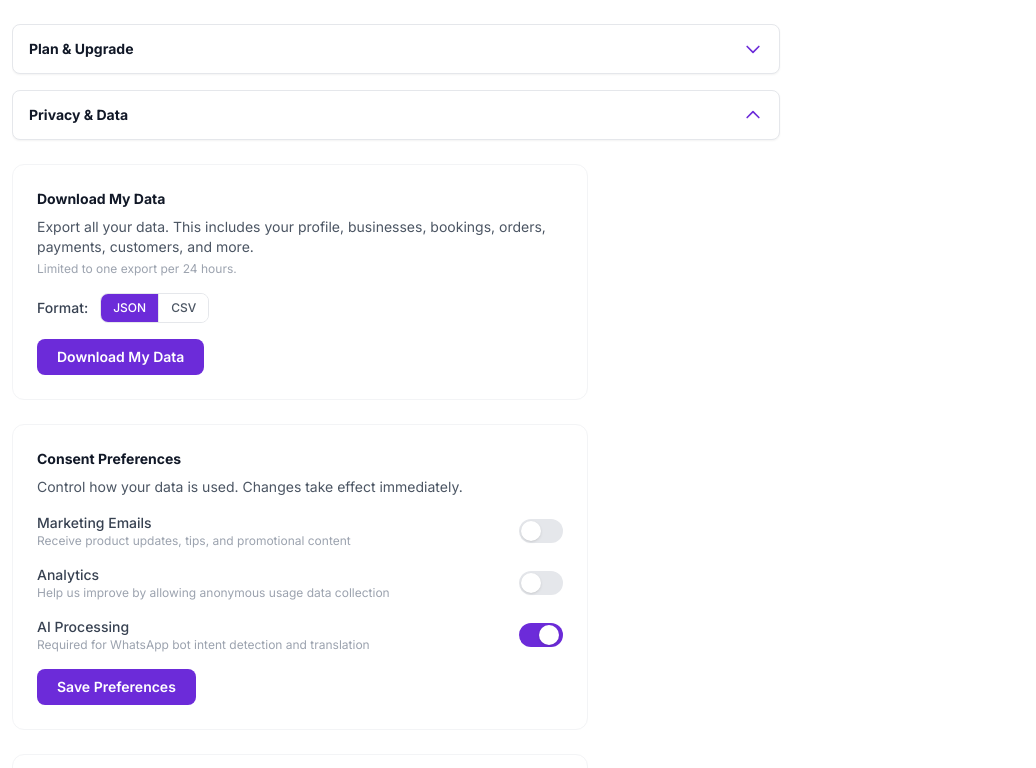
Test: W27 rendered AccountTab with actual consent GET/POST › does not claim saved after actual returned update outcome
The image size is (1036, 768).
Expected: the button "Save Preferences" is shown, [37,669,196,705]
Click the switch named "Toggle marketing emails": [541, 531] box [519,519,563,543]
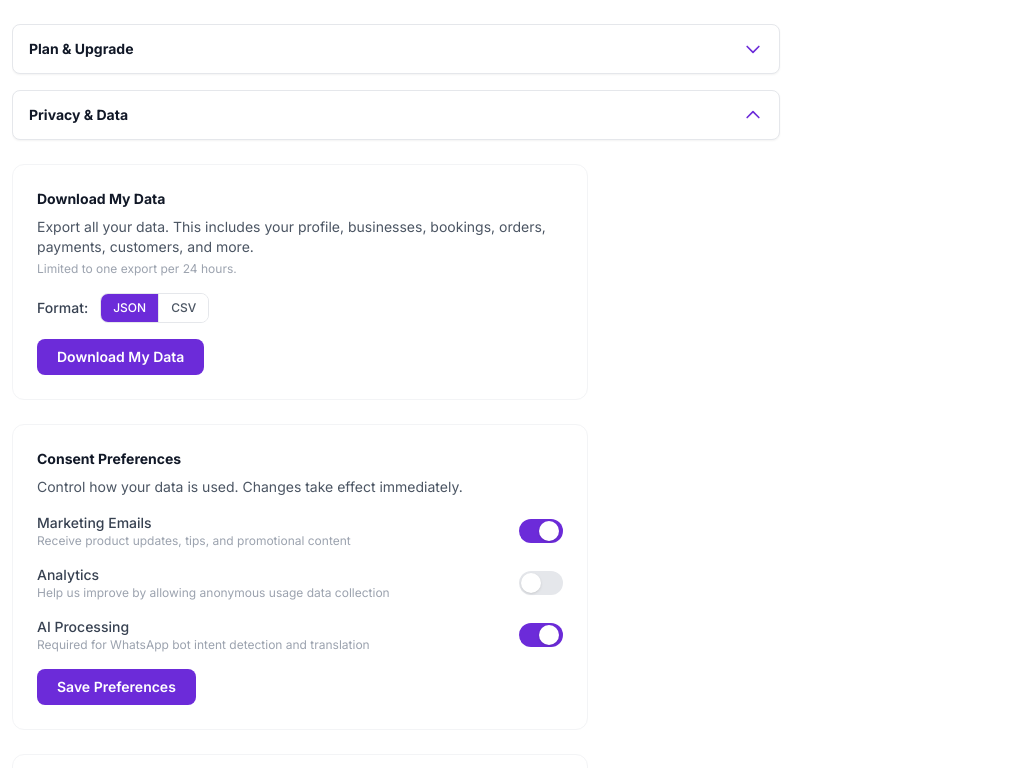
Click the button "Save Preferences": [116, 687] box [37,669,196,705]
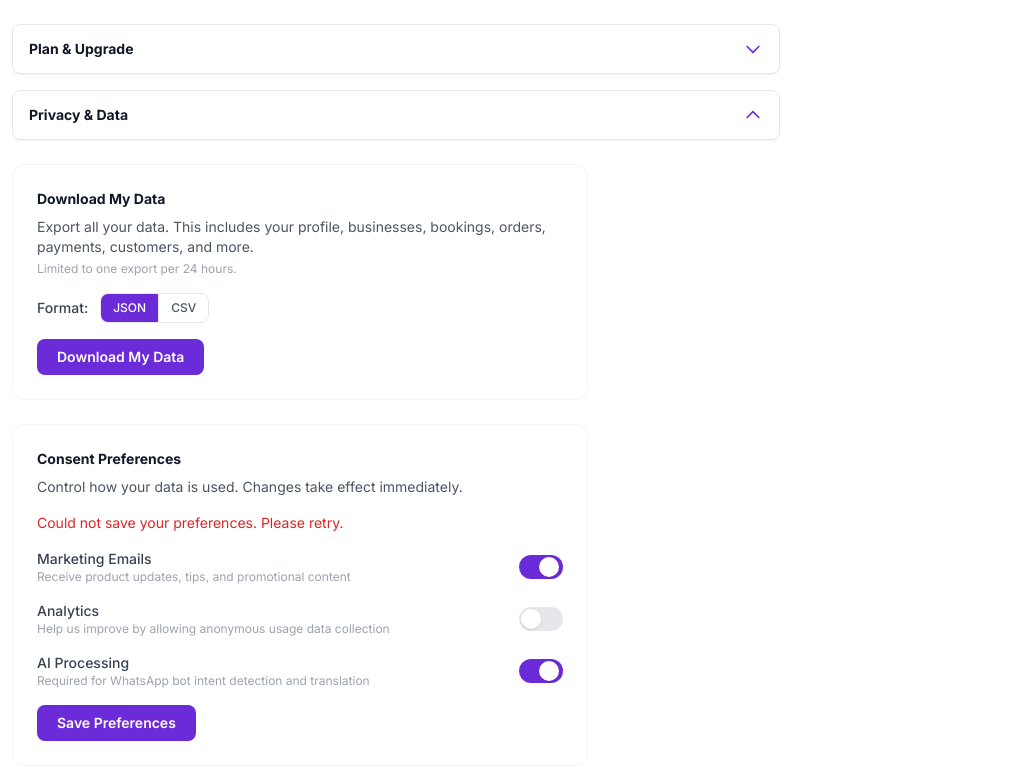
Now the message "Could not save your preferences. Please retry." is shown, box [37,514,343,531]
